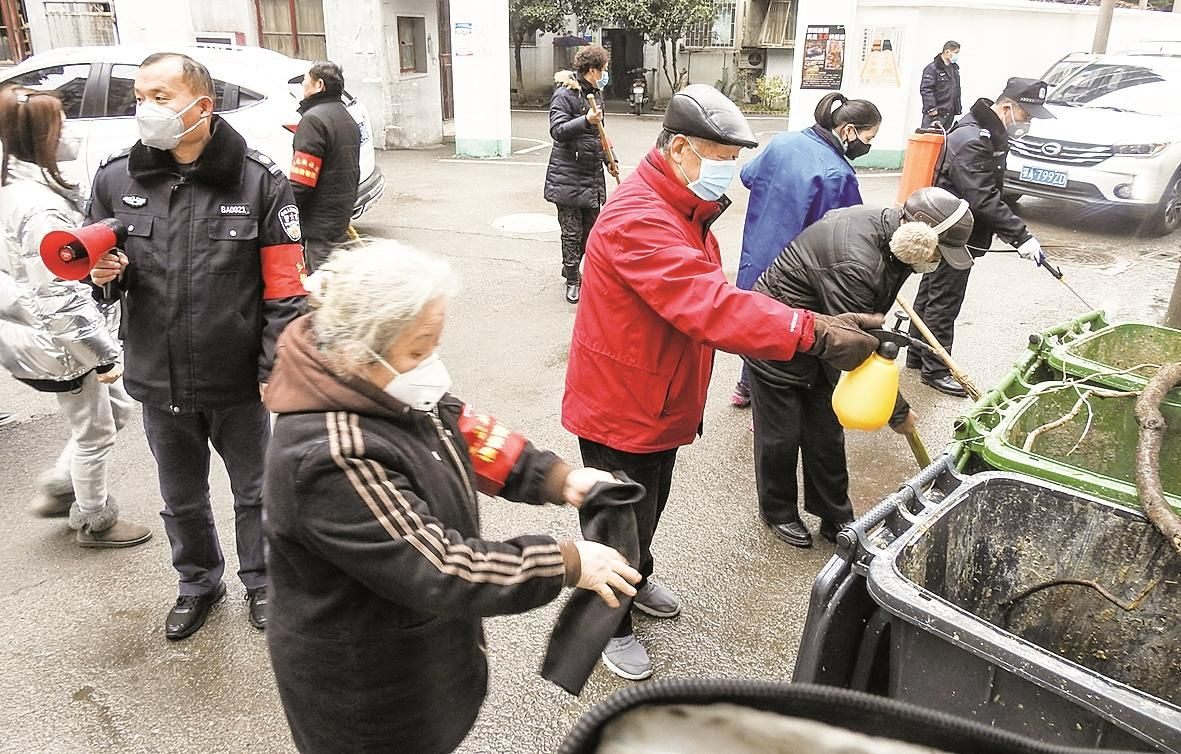rightmask: (309, 235, 450, 440), (658, 77, 748, 224), (127, 53, 213, 175), (1, 83, 85, 183), (819, 95, 879, 172), (996, 75, 1050, 153), (571, 40, 616, 96)
